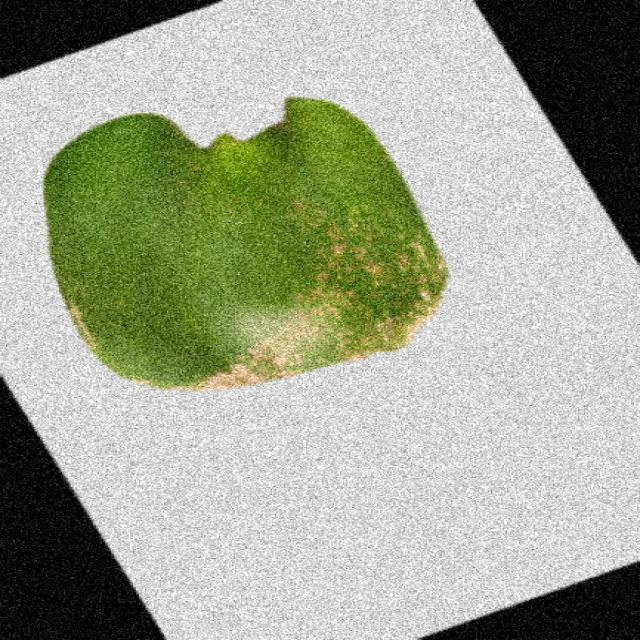daun berpenyakit bercak: (45, 99, 446, 389)
